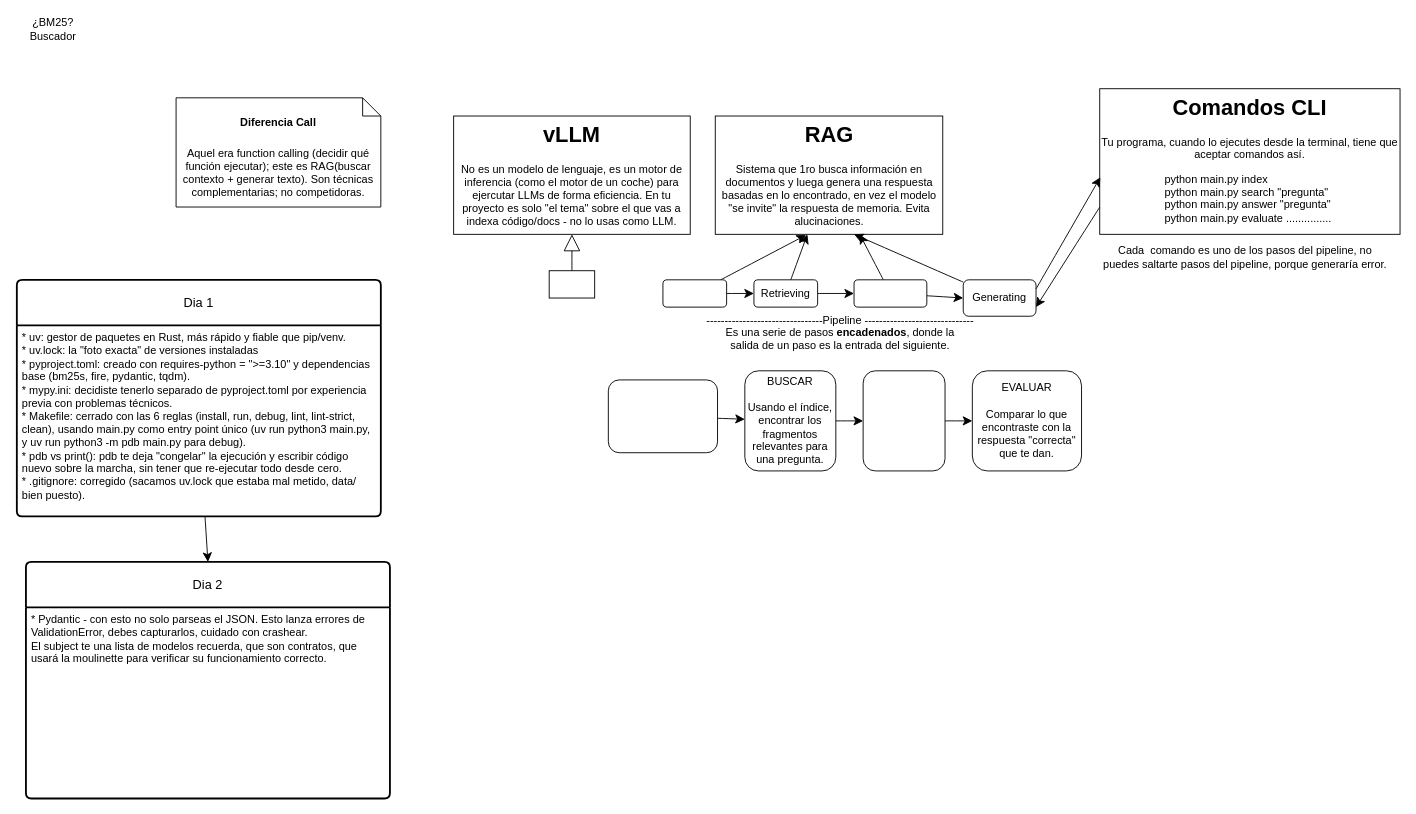
The diagram is 1416 pixels wide and 814 high, and some of its shapes have lost their labels. Here are the shapes that lost their labels. From the top down, the centre of each, then its label:
At [571,284]: "LLM".
At [694,293]: "Indexing".
At [890,293]: "Augmenting".
At [662,416]: "INDEXAR Leer el repo de vLLM y crear una base de datos buscable".
At [903,420]: "RESPONDER Pasarle esos fragmentos al LLM para que redacte una respuesta.".
